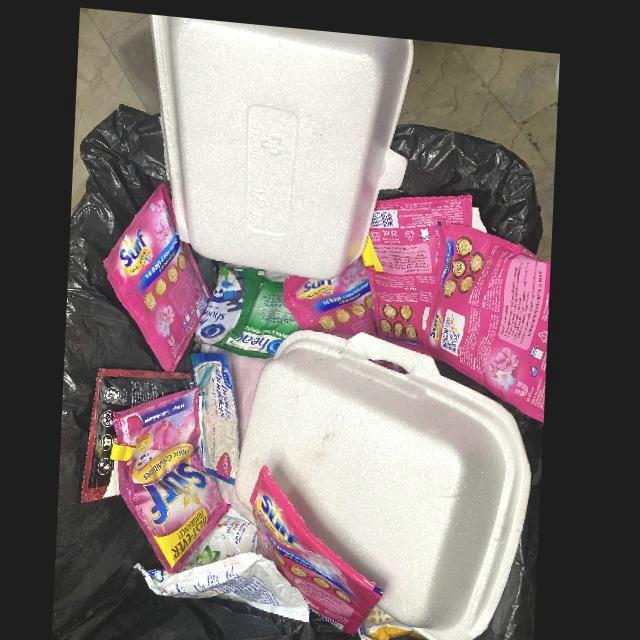plastic_sachet: (425, 215, 553, 413), (255, 462, 388, 631), (115, 383, 235, 570), (105, 180, 215, 370), (85, 368, 198, 503), (140, 550, 315, 620), (198, 259, 303, 354), (194, 349, 246, 482)
